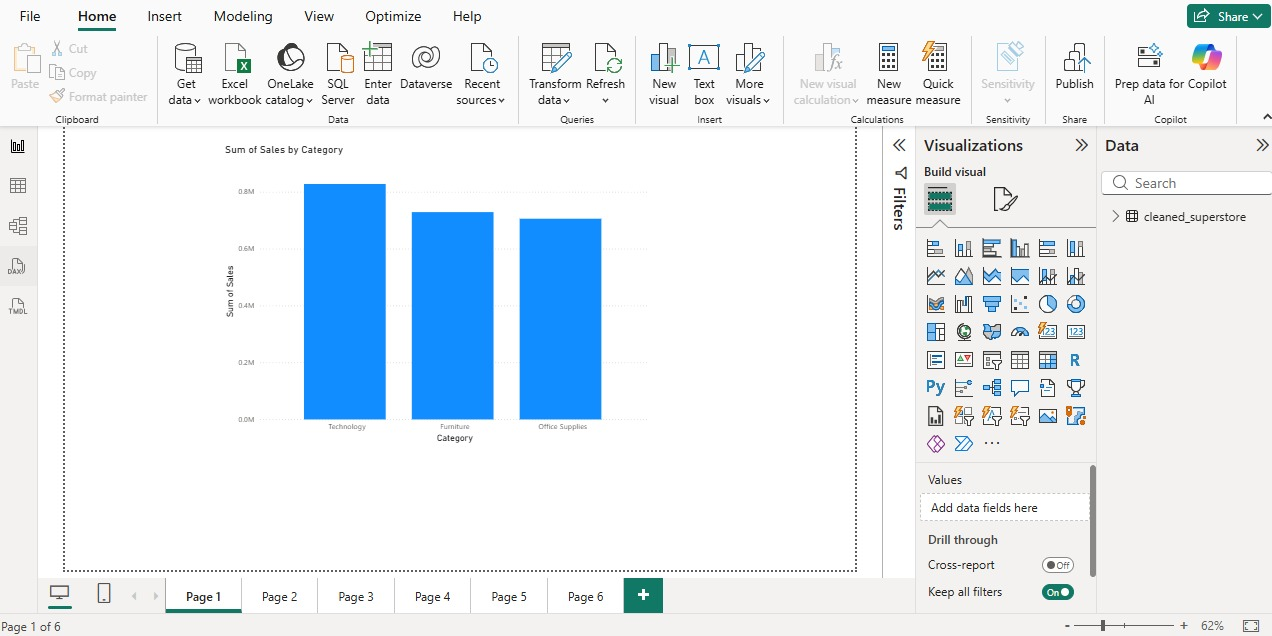

Layout of this report page (visuals, bound fields, positions):
{"tool":"powerbi","page":{"name":"Page 1","canvas":[1280,720],"ordinal":0},"visuals":[{"type":"clusteredColumnChart","fields":{"Category":["cleaned_superstore.Category"],"Y":["Sum(cleaned_superstore.Sales)"]},"box":[255,27.5,697.5,491.2],"z":0}]}

Visuals, with their boxes on the page's 1280x720 design canvas (x1, y1, x2, y2). These are canvas units, not pixel positions in the 1272x636 screenshot, which may show the page scaled, cropped or inside an application window:
clusteredColumnChart - cleaned_superstore.Category x Sum(cleaned_superstore.Sales): (255,28,952,519)
